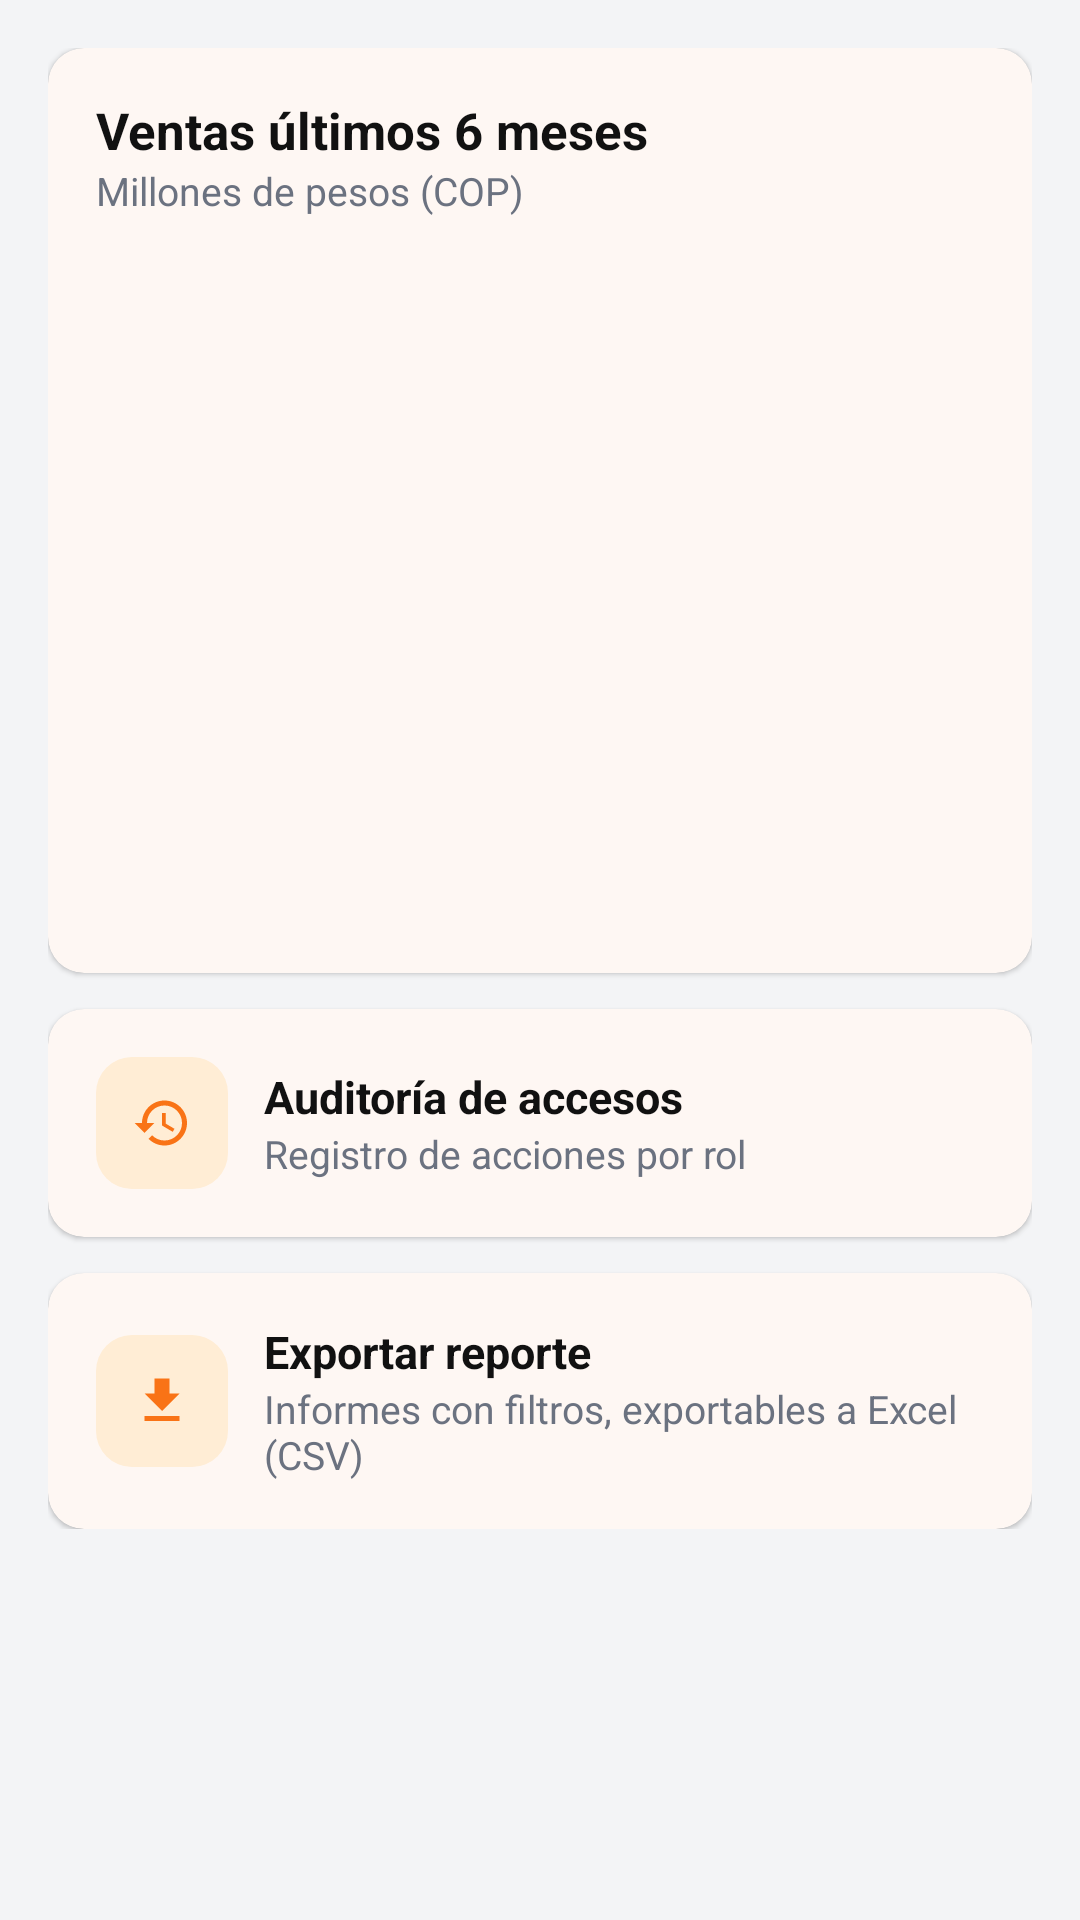

Named icons in this screenshot (1080 x 1920) and their centers, (x=x, y=y):
download: (x=162, y=1401)
history: (x=162, y=1123)
